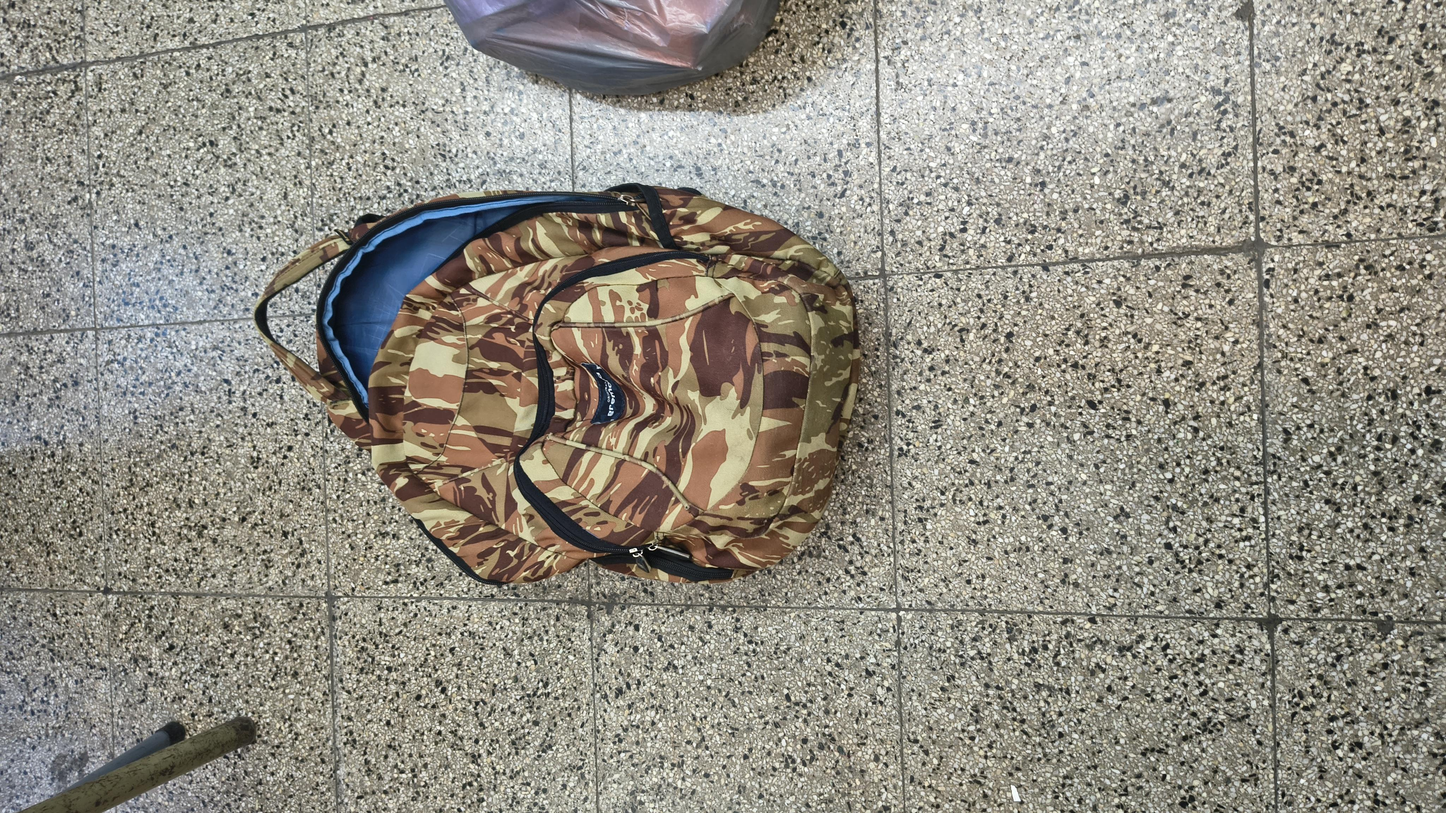Garbage: (1261, 238, 1446, 453)
